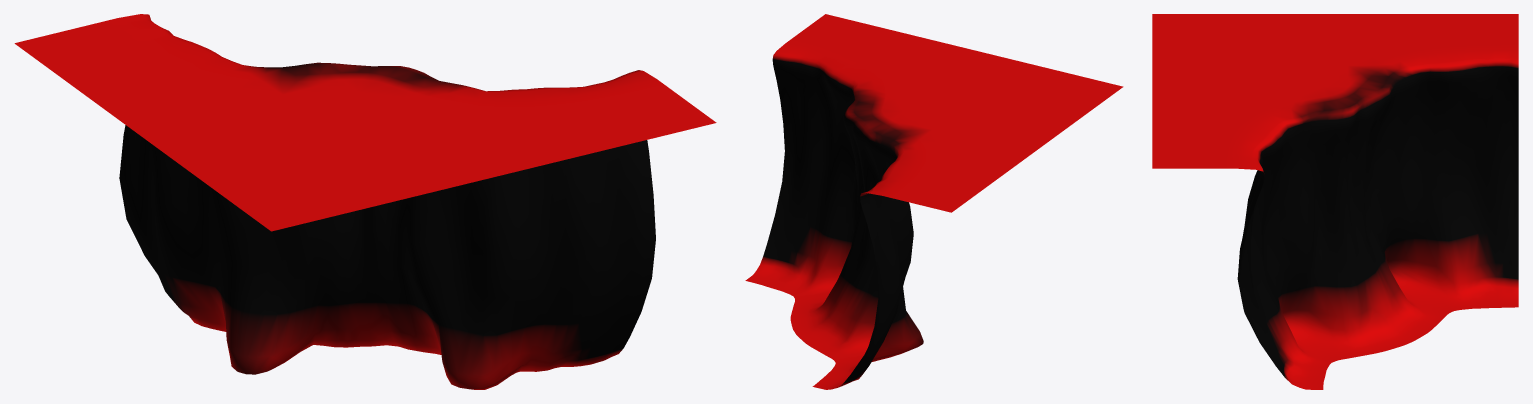
File: GroundCliff04C 2M Foreground.fbx
3 renders of one model, left to right at view 1: azimuth 30°, elevation 25°; view 2: azimuth 150°, elevation 25°; view 3: azimuth 270°, elevation 25°, orthographic. The views are drawn at different scales.
Parts seen in each view (by area): view 1: GroundCliff04C 2M Foreground; view 2: GroundCliff04C 2M Foreground; view 3: GroundCliff04C 2M Foreground.
Part boxes in pixels (x1,y1,x2,y2): GroundCliff04C 2M Foreground: (14,14,716,389); GroundCliff04C 2M Foreground: (745,14,1123,389); GroundCliff04C 2M Foreground: (1152,14,1518,389).
Size of the model in its own units: 3 by 2 by 3.
